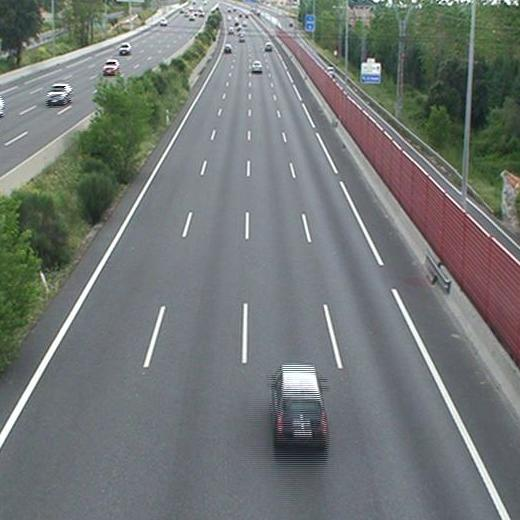car: (272, 366, 327, 445), (251, 61, 262, 71), (264, 42, 274, 52), (224, 44, 232, 54)
